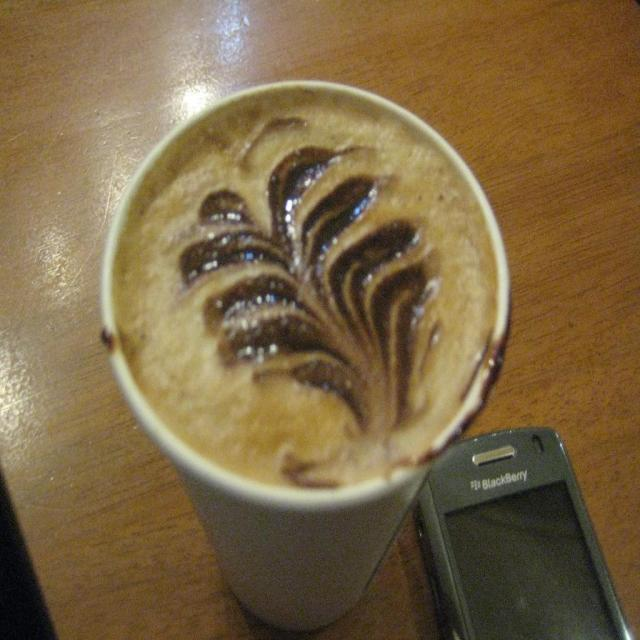Coffee: (115, 95, 497, 492)
